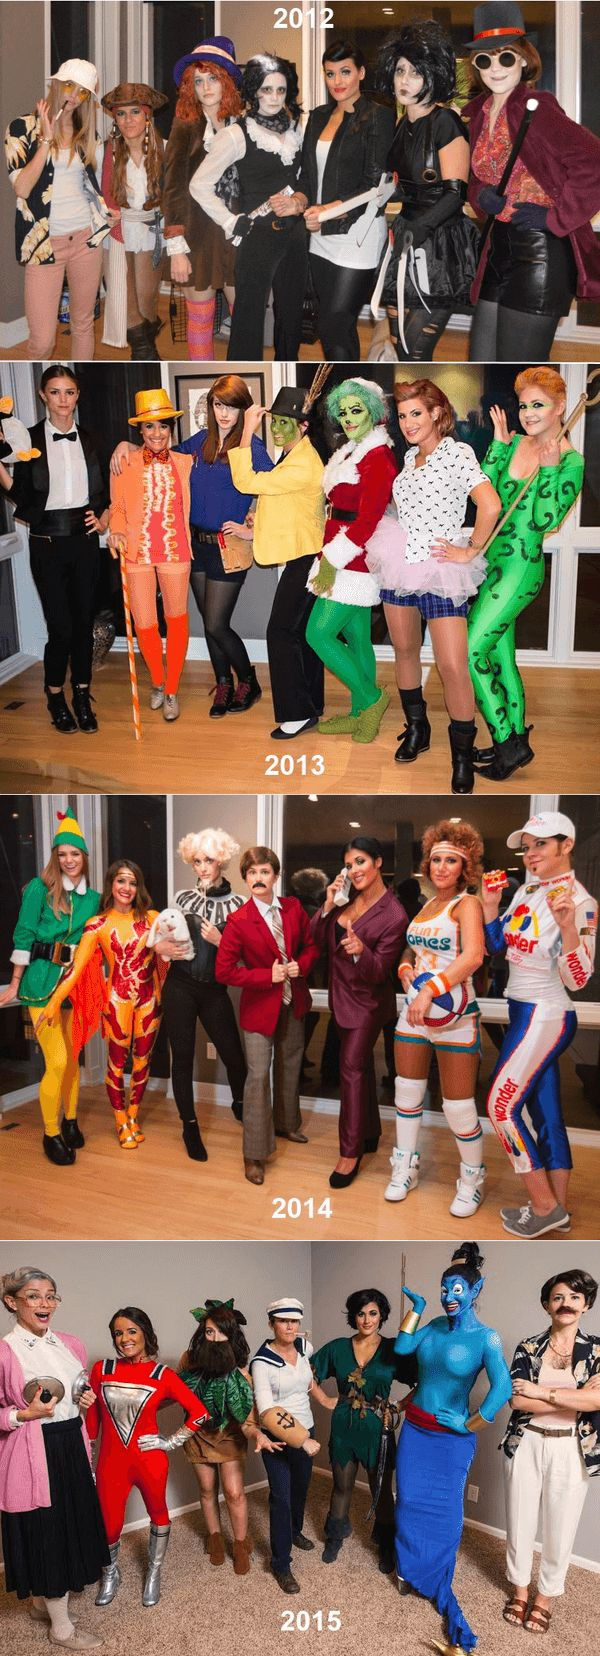bad: (21, 1279, 64, 1322), (329, 398, 365, 434), (549, 1290, 585, 1326), (393, 402, 429, 438), (321, 62, 357, 98), (425, 850, 461, 886), (513, 394, 549, 430), (337, 850, 373, 886), (41, 382, 77, 418), (105, 1318, 140, 1354), (433, 1278, 469, 1314), (254, 78, 289, 114), (241, 862, 277, 898), (49, 842, 85, 878), (137, 414, 173, 450), (109, 98, 145, 134), (205, 394, 241, 430), (189, 70, 225, 106), (561, 954, 597, 990), (105, 870, 140, 906)
